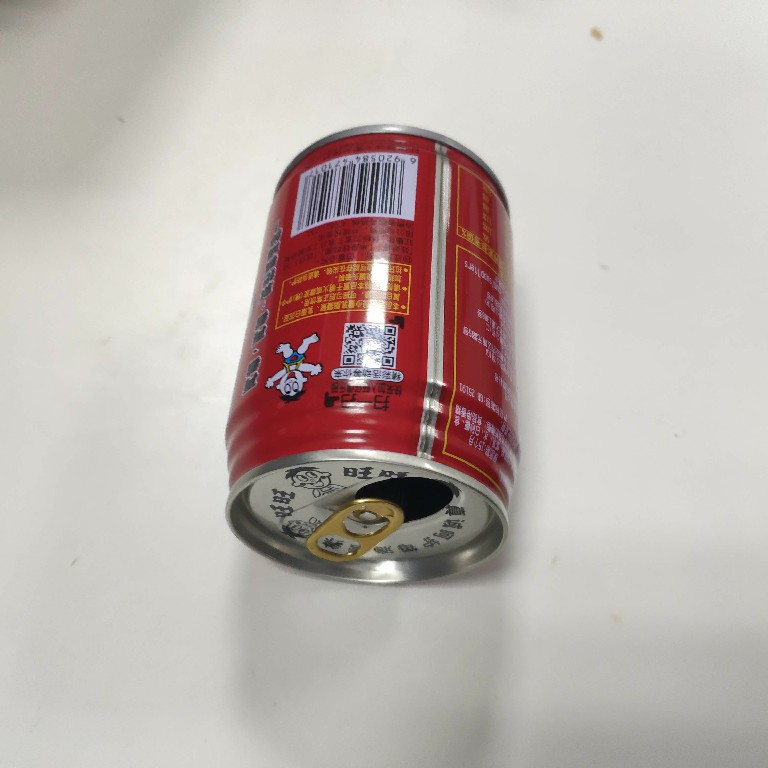can: (215, 122, 526, 591)
